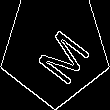M_NW: (23, 16, 87, 83)
